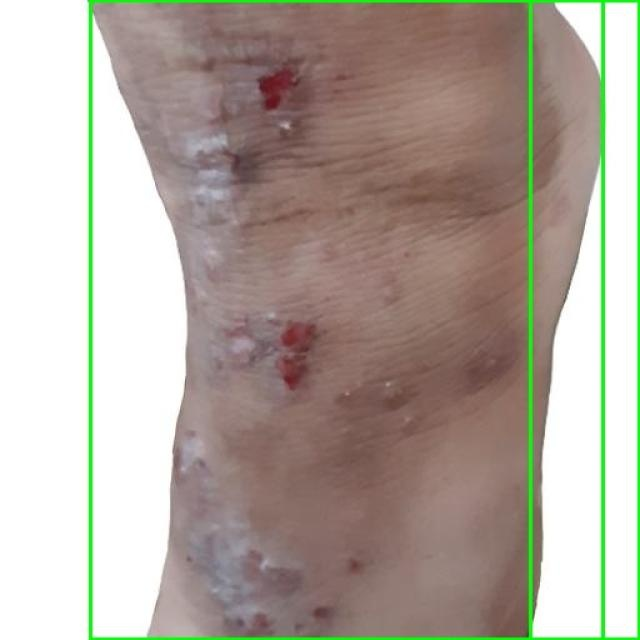Eczema: (90, 0, 602, 639), (530, 0, 639, 639)
